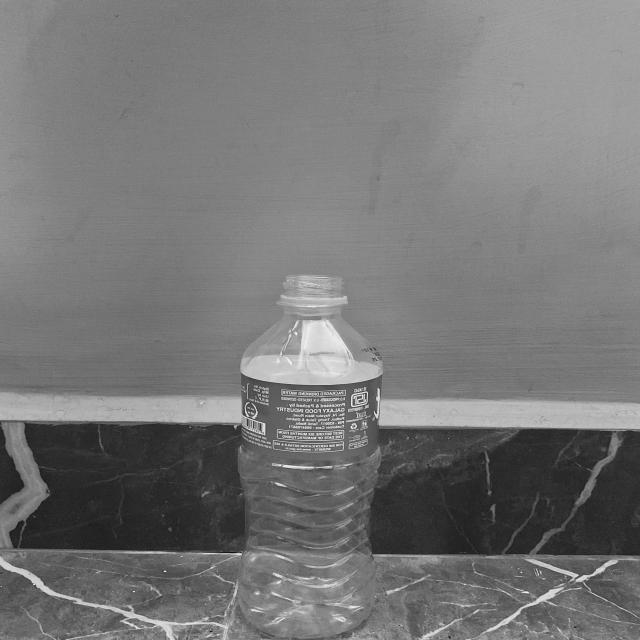open-cap: (274, 275, 350, 311)
